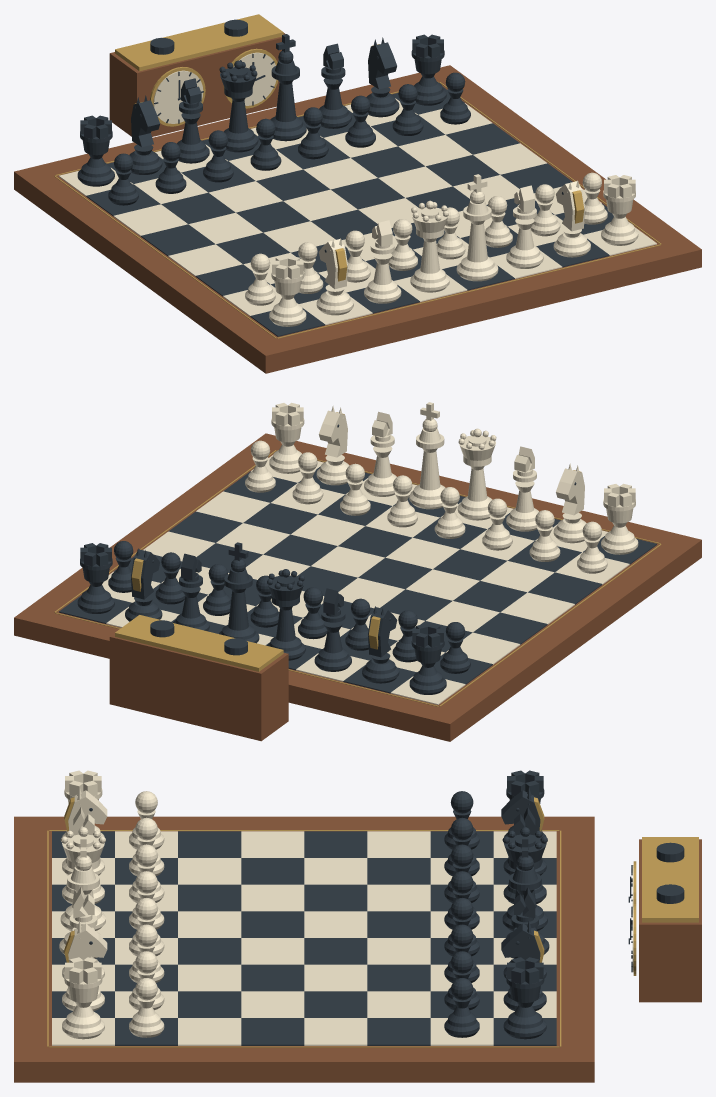
File: staunton-set.glb
The picture shows the model from 3 angles, top to bottom: view 1: azimuth 30°, elevation 25°; view 2: azimuth 150°, elevation 25°; view 3: azimuth 270°, elevation 25°; orthographic projection. The views are drawn at different scales.
Parts seen in each view (by area): view 1: 000-board/0, 001-clock/0, 001-clock/1, 018-king/0, 001-clock/3, 020-king/0, 000-board/17, 000-board/25, 000-board/33, 000-board/24, 000-board/22, 000-board/27 (+73 smaller); view 2: 000-board/0, 001-clock/0, 001-clock/1, 018-king/0, 000-board/33, 000-board/41, 000-board/25, 000-board/38, 000-board/43, 000-board/45, 000-board/37, 000-board/34 (+66 smaller); view 3: 000-board/0, 001-clock/0, 001-clock/1, 000-board/19, 000-board/22, 000-board/24, 000-board/32, 000-board/40, 000-board/48, 000-board/27, 000-board/30, 000-board/35 (+68 smaller).
Boxes of the visible parts, left/top/right/bottom form: 000-board/0: left=14, top=65, right=701, bottom=373; 001-clock/0: left=109, top=33, right=285, bottom=136; 001-clock/1: left=115, top=14, right=283, bottom=71; 018-king/0: left=456, top=220, right=498, bottom=281; 001-clock/3: left=153, top=70, right=203, bottom=123; 020-king/0: left=270, top=80, right=306, bottom=141; 000-board/17: left=113, top=204, right=187, bottom=236; 000-board/25: left=141, top=224, right=215, bottom=256; 000-board/33: left=168, top=244, right=242, bottom=276; 000-board/24: left=446, top=123, right=519, bottom=154; 000-board/22: left=351, top=146, right=424, bottom=177; 000-board/27: left=236, top=201, right=310, bottom=232; 000-board/0: left=14, top=433, right=701, bottom=741; 001-clock/0: left=109, top=633, right=288, bottom=741; 001-clock/1: left=115, top=615, right=283, bottom=671; 018-king/0: left=409, top=448, right=445, bottom=509; 000-board/33: left=500, top=592, right=574, bottom=624; 000-board/41: left=528, top=572, right=602, bottom=604; 000-board/25: left=473, top=612, right=547, bottom=644; 000-board/38: left=263, top=534, right=337, bottom=565; 000-board/43: left=433, top=549, right=507, bottom=580; 000-board/45: left=338, top=526, right=412, bottom=557; 000-board/37: left=311, top=546, right=384, bottom=577; 000-board/34: left=453, top=581, right=526, bottom=612; 000-board/0: left=14, top=816, right=594, bottom=1082; 001-clock/0: left=639, top=839, right=701, bottom=1002; 001-clock/1: left=642, top=837, right=698, bottom=922; 000-board/19: left=367, top=884, right=430, bottom=911; 000-board/22: left=367, top=964, right=430, bottom=991; 000-board/24: left=367, top=1018, right=430, bottom=1045; 000-board/32: left=304, top=1018, right=367, bottom=1045; 000-board/40: left=241, top=1018, right=304, bottom=1045; 000-board/48: left=178, top=1018, right=241, bottom=1045; 000-board/27: left=304, top=884, right=367, bottom=911; 000-board/30: left=304, top=964, right=367, bottom=991; 000-board/35: left=241, top=884, right=304, bottom=911.
Size of the model in its own units: 0.46 by 0.118 by 0.545.
